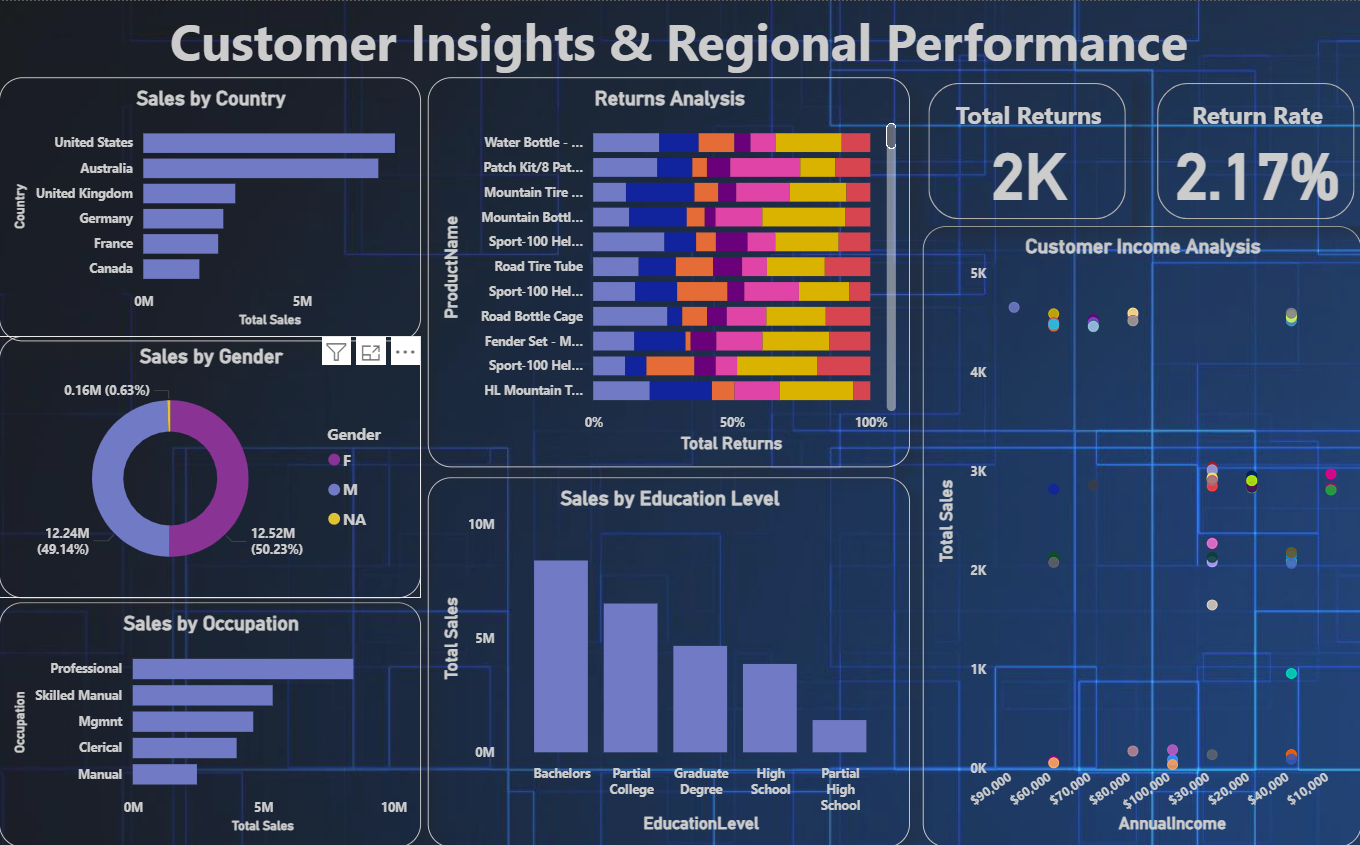

This screenshot's page, from the dashboard's own definition file:
{"tool":"powerbi","page":{"name":"Customer & Regional Analysis","canvas":[1160,720],"ordinal":2},"visuals":[{"type":"textbox","box":[140.4,0,878.7,68.1],"z":0},{"type":"barChart","title":"Sales by Country","fields":{"Category":["Territories.Country"],"Y":["Final Sales.Total Sales"]},"box":[0,64.9,359.6,224.5],"z":1000},{"type":"barChart","title":"Sales by Occupation","fields":{"Category":["Customers Table.Occupation"],"Y":["Final Sales.Total Sales"]},"box":[0,511.7,359.6,208.5],"z":2000},{"type":"donutChart","title":"Sales by Gender","fields":{"Category":["Customers Table.Gender"],"Y":["Final Sales.Total Sales"]},"box":[0,285.1,359.6,223.4],"z":3000},{"type":"clusteredColumnChart","title":"Sales by Education Level","fields":{"Category":["Customers Table.EducationLevel"],"Y":["Final Sales.Total Sales"]},"box":[364.9,405.3,410.6,314.9],"z":4000},{"type":"scatterChart","title":"Customer Income Analysis","fields":{"Y":["Final Sales.Total Sales"],"X":["Customers Table.AnnualIncome"],"Series":["Customers Table.CustomerKey"]},"box":[786.2,191.5,373.4,528.7],"z":5000},{"type":"cardVisual","fields":{"Data":["Returns.Return Rate"]},"box":[980.9,64.9,178.7,126.6],"z":5001},{"type":"cardVisual","fields":{"Data":["Returns.Total Returns"]},"box":[786.2,64.9,178.7,126.6],"z":5002},{"type":"hundredPercentStackedBarChart","title":"Returns Analysis","fields":{"Category":["Products.ProductName"],"Y":["Returns.Total Returns"],"Series":["Territories.Region"]},"box":[364.9,64.9,410.6,331.9],"z":5003}]}

Visuals, with their boxes in screenshot pixels (x1, y1, x2, y2), scaled from the page's 1160x720 canvas onto the 1360x845 screenshot:
textbox: box(165, 0, 1195, 80)
"Sales by Country" barChart: box(0, 76, 422, 340)
"Sales by Occupation" barChart: box(0, 601, 422, 844)
"Sales by Gender" donutChart: box(0, 335, 422, 597)
"Sales by Education Level" clusteredColumnChart: box(428, 476, 909, 844)
"Customer Income Analysis" scatterChart: box(922, 225, 1359, 844)
cardVisual - Returns.Return Rate: box(1150, 76, 1359, 225)
cardVisual - Returns.Total Returns: box(922, 76, 1131, 225)
"Returns Analysis" hundredPercentStackedBarChart: box(428, 76, 909, 466)
